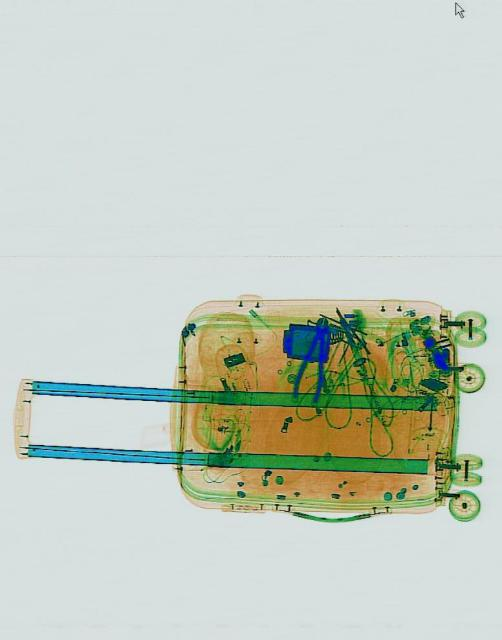Pliers: (289, 311, 335, 403)
